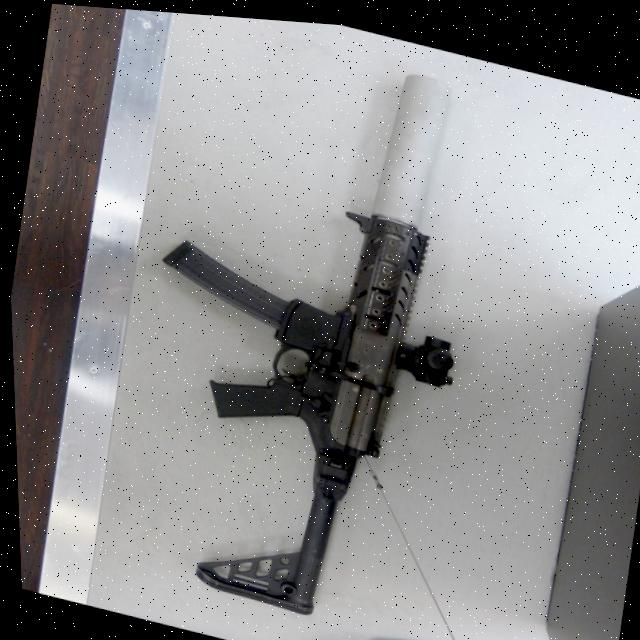firearm: (97, 6, 516, 640)
